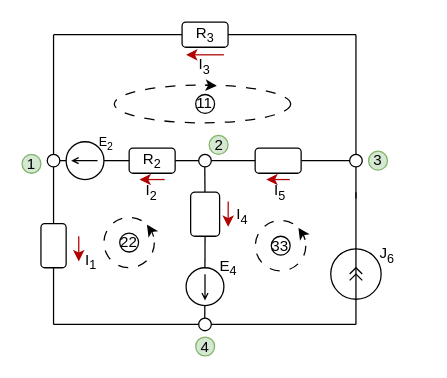
This 447x378 diagram has some shape labels left out. The shapes that lost their labels are listed below. From the top down, each one's centre as x and y in pixels, then its label:
At (x=277, y=160): "R 5".
At (x=204, y=213): "R 4".
At (x=53, y=245): "R 1".
